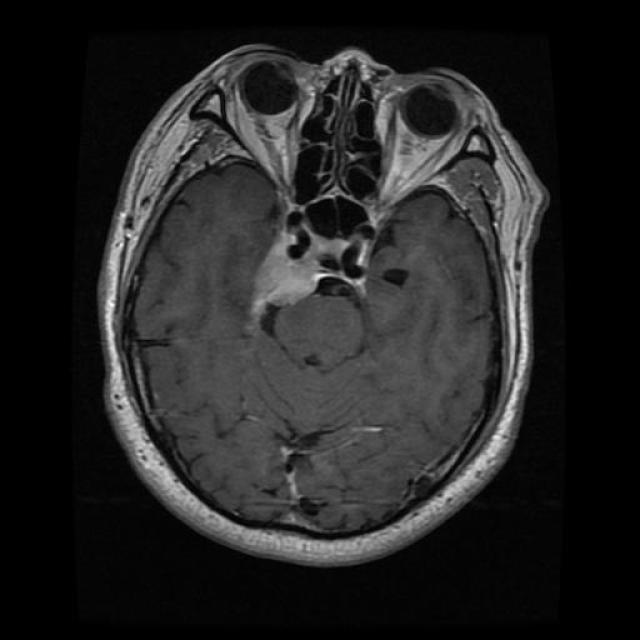meningioma: (254, 260, 318, 312)
